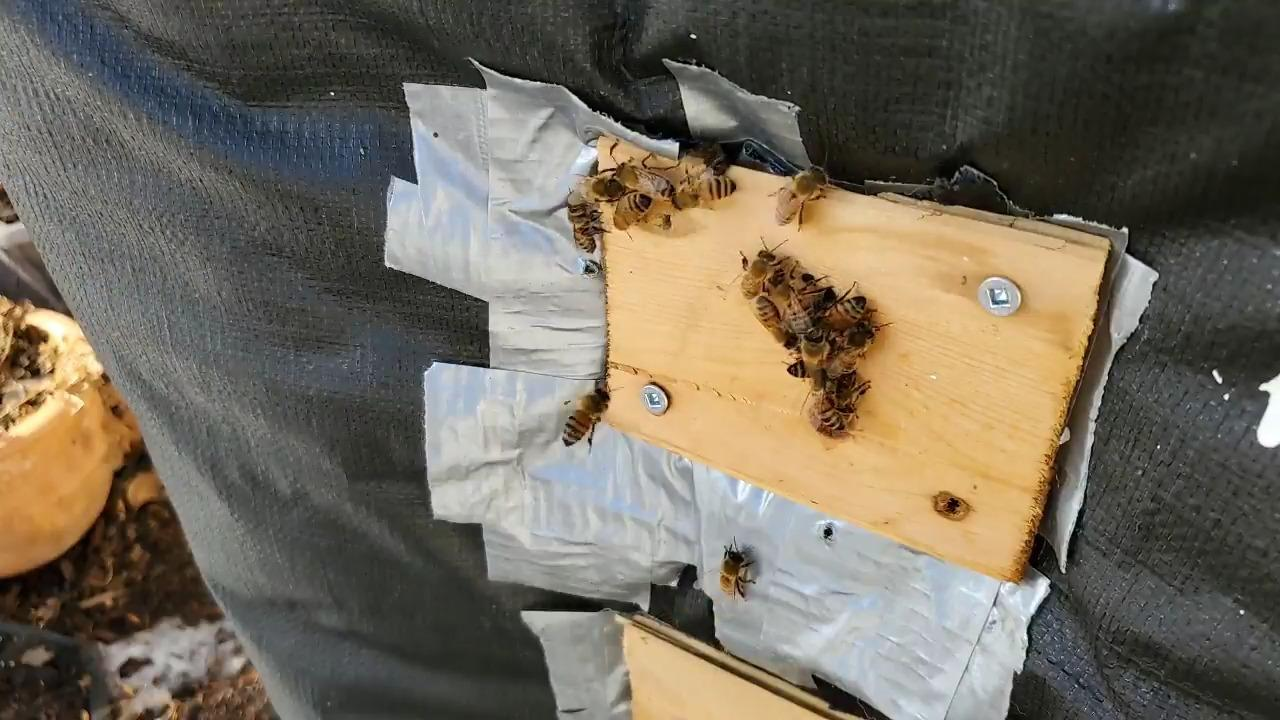bee: (775, 167, 828, 223), (563, 387, 610, 445), (756, 296, 797, 347), (614, 162, 676, 195), (670, 178, 736, 208), (814, 296, 866, 331), (776, 285, 812, 334), (812, 379, 845, 432), (742, 251, 776, 298), (837, 324, 871, 370), (614, 192, 654, 231), (568, 203, 596, 252), (804, 328, 826, 379), (578, 177, 626, 199), (788, 355, 832, 379), (720, 550, 744, 594)
